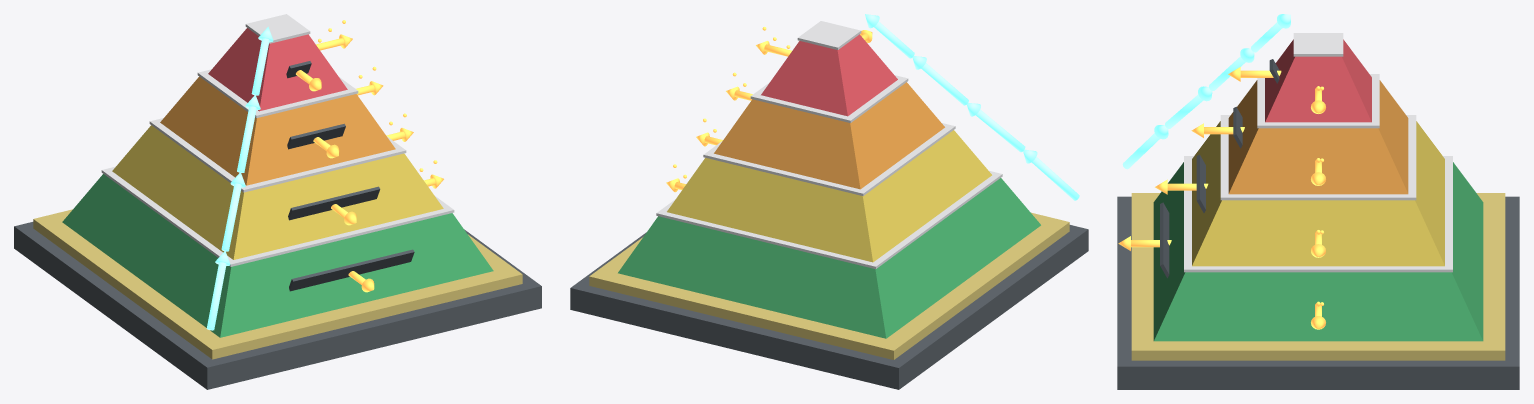
File: trophic-level-pyramid.glb
3 views of the same model, side by side, from view 1: azimuth 30°, elevation 25°; view 2: azimuth 150°, elevation 25°; view 3: azimuth 270°, elevation 25° (orthographic). The views are drawn at different scales.
Visible parts, largest first — view 1: Full_Tier_0_Producers_10000J, Full_Pedestal, Full_Tier_1_Herbivores_1000J, Full_Tier_2_Carnivores_100J, Full_Plinth, Full_Tier_3_Apex_10J, Sec_Tier_0_Producers, Sec_Tier_1_Herbivores, Full_Trim_0, Full_Trim_1, Full_Badge_0, Full_Trim_2 (+9 smaller); view 2: Full_Tier_0_Producers_10000J, Full_Tier_1_Herbivores_1000J, Full_Pedestal, Full_Tier_2_Carnivores_100J, Full_Plinth, Full_Tier_3_Apex_10J, Full_Trim_0, Full_Trim_1, Full_Trim_2, Full_Trim_3, Full_TransferArrow_1_Shaft, Full_TransferArrow_0_Shaft (+1 smaller); view 3: Full_Tier_0_Producers_10000J, Full_Tier_1_Herbivores_1000J, Full_Pedestal, Full_Plinth, Full_Tier_2_Carnivores_100J, Full_Tier_3_Apex_10J, Sec_Tier_0_Producers, Full_Trim_0, Sec_Tier_1_Herbivores, Full_Trim_1, Sec_Tier_2_Carnivores, Full_Trim_2 (+7 smaller).
Boxes of the visible parts, x1,y1,x2,y2 form: Full_Tier_0_Producers_10000J: [62, 174, 493, 337]; Full_Pedestal: [14, 222, 541, 389]; Full_Tier_1_Herbivores_1000J: [112, 125, 443, 259]; Full_Tier_2_Carnivores_100J: [160, 76, 395, 185]; Full_Plinth: [33, 209, 522, 359]; Full_Tier_3_Apex_10J: [208, 28, 347, 110]; Sec_Tier_0_Producers: [221, 240, 355, 337]; Sec_Tier_1_Herbivores: [235, 173, 338, 258]; Full_Trim_0: [101, 166, 454, 266]; Full_Trim_1: [149, 118, 406, 192]; Full_Badge_0: [289, 249, 414, 291]; Full_Trim_2: [197, 69, 358, 118]; Full_Tier_0_Producers_10000J: [618, 178, 1040, 338]; Full_Tier_1_Herbivores_1000J: [667, 130, 991, 262]; Full_Pedestal: [570, 225, 1088, 389]; Full_Tier_2_Carnivores_100J: [714, 82, 944, 189]; Full_Plinth: [589, 212, 1069, 359]; Full_Tier_3_Apex_10J: [761, 34, 897, 116]; Full_Trim_0: [656, 171, 1002, 269]; Full_Trim_1: [703, 123, 955, 195]; Full_Trim_2: [750, 75, 908, 122]; Full_Trim_3: [797, 21, 861, 49]; Full_TransferArrow_1_Shaft: [976, 109, 1025, 152]; Full_TransferArrow_0_Shaft: [1031, 157, 1079, 200]; Full_Tier_0_Producers_10000J: [1153, 162, 1483, 341]; Full_Tier_1_Herbivores_1000J: [1192, 121, 1444, 266]; Full_Pedestal: [1117, 196, 1519, 389]; Full_Plinth: [1131, 193, 1505, 360]; Full_Tier_2_Carnivores_100J: [1228, 80, 1408, 194]; Full_Tier_3_Apex_10J: [1265, 39, 1371, 122]; Sec_Tier_0_Producers: [1153, 162, 1482, 341]; Full_Trim_0: [1184, 156, 1452, 272]; Sec_Tier_1_Herbivores: [1192, 124, 1443, 266]; Full_Trim_1: [1220, 115, 1416, 200]; Sec_Tier_2_Carnivores: [1228, 80, 1407, 194]; Full_Trim_2: [1257, 74, 1379, 128].
Bounding box in the file's own units: 0.22 × 0.168 × 0.22.
